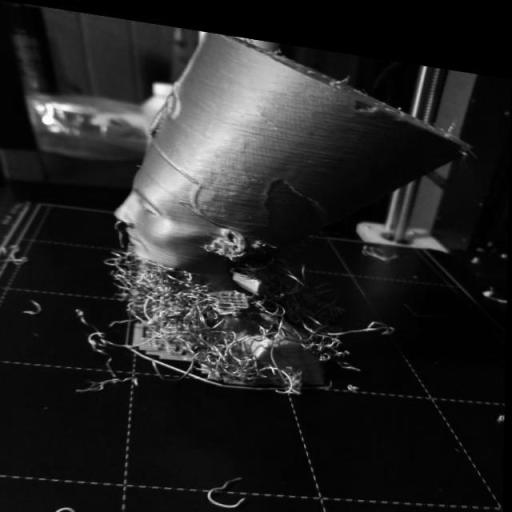spaghetti_and_stringing: (46, 214, 388, 416)
